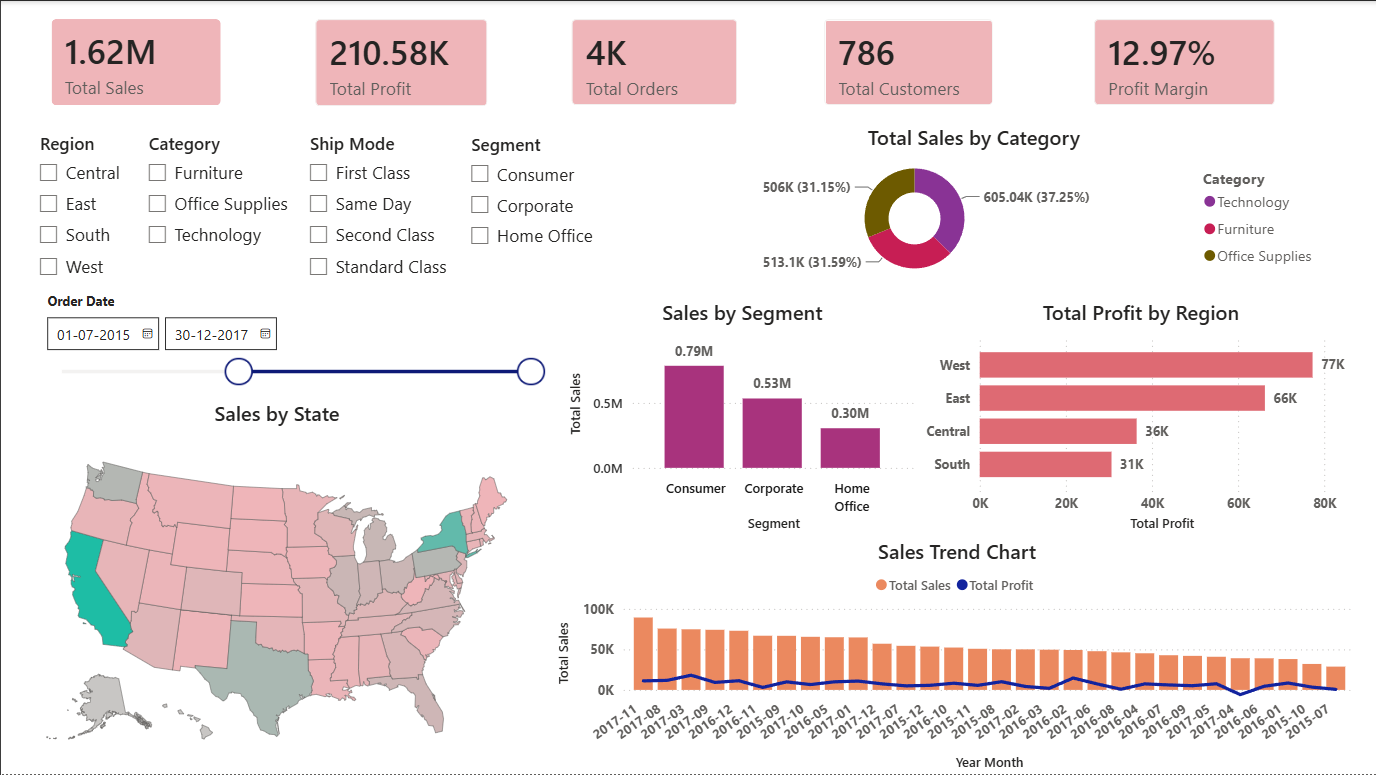

The page's visual inventory and layout, read from the dashboard file:
{"tool":"powerbi","page":{"name":"Executive Sales Overview","canvas":[1280,720],"ordinal":0},"visuals":[{"type":"cardVisual","title":"Total Sales","fields":{"Data":["Superstore.Total Sales"]},"box":[30.4,0,191.3,114.5],"z":0},{"type":"cardVisual","title":"Total Sales","fields":{"Data":["Superstore.Total Profit"]},"box":[275.4,0,194.2,115.9],"z":1000},{"type":"cardVisual","title":"Total Sales","fields":{"Data":["Superstore.Total Orders"]},"box":[514.5,0,188.4,114.5],"z":2000},{"type":"cardVisual","title":"Total Sales","fields":{"Data":["Superstore.Total Customers"]},"box":[749.3,0,191.3,114.5],"z":3000},{"type":"cardVisual","title":"Total Sales","fields":{"Data":["Superstore.Profit Margin"]},"box":[1000,0,202.9,114.5],"z":4000},{"type":"lineClusteredColumnComboChart","title":"Sales Trend Chart","fields":{"Y":["Superstore.Total Sales"],"Y2":["Superstore.Total Profit"],"Category":["DateTable.Year Month"]},"box":[514.5,498.6,750.7,221.7],"z":5000},{"type":"donutChart","fields":{"Category":["Superstore.Category"],"Y":["Superstore.Total Sales"]},"box":[576.8,114.5,656.5,152.2],"z":6000},{"type":"barChart","fields":{"Category":["Superstore.Region"],"Y":["Superstore.Total Profit"]},"box":[855.1,276.8,411.6,221.7],"z":7000},{"type":"clusteredColumnChart","title":"Sales by Segment","fields":{"Category":["Superstore.Segment"],"Y":["Superstore.Total Sales"]},"box":[524.6,276.8,330.4,221.7],"z":8000},{"type":"shapeMap","title":"Sales by State","fields":{"Category":["Superstore.State"],"Value":["Superstore.Total Sales"]},"box":[14.5,371,485.5,349.3],"z":9000},{"type":"slicer","title":"Order Date","fields":{"Values":["Superstore.Order Date"]},"box":[30.2,266.3,483.7,96.5],"z":10000},{"type":"slicer","fields":{"Values":["Superstore.Region"]},"box":[23.2,115.9,101.4,150.7],"z":11000},{"type":"slicer","fields":{"Values":["Superstore.Category"]},"box":[124.6,115.9,149.3,150.7],"z":12000},{"type":"slicer","fields":{"Values":["Superstore.Ship Mode"]},"box":[273.9,115.9,150.7,150.7],"z":13000},{"type":"slicer","fields":{"Values":["Superstore.Segment"]},"box":[424.6,117.4,134.8,133.3],"z":14000}]}

Visuals, with their boxes in screenshot pixels (x1, y1, x2, y2), scaled from the page's 1280x720 canvas onto the 1376x775 screenshot:
"Total Sales" cardVisual: 33, 0, 238, 123
"Total Sales" cardVisual: 296, 0, 505, 125
"Total Sales" cardVisual: 553, 0, 756, 123
"Total Sales" cardVisual: 805, 0, 1011, 123
"Total Sales" cardVisual: 1075, 0, 1293, 123
"Sales Trend Chart" lineClusteredColumnComboChart: 553, 537, 1360, 774
donutChart - Superstore.Category x Superstore.Total Sales: 620, 123, 1326, 287
barChart - Superstore.Region x Superstore.Total Profit: 919, 298, 1362, 537
"Sales by Segment" clusteredColumnChart: 564, 298, 919, 537
"Sales by State" shapeMap: 16, 399, 538, 774
"Order Date" slicer: 32, 287, 552, 391
slicer - Superstore.Region: 25, 125, 134, 287
slicer - Superstore.Category: 134, 125, 294, 287
slicer - Superstore.Ship Mode: 294, 125, 456, 287
slicer - Superstore.Segment: 456, 126, 601, 270
